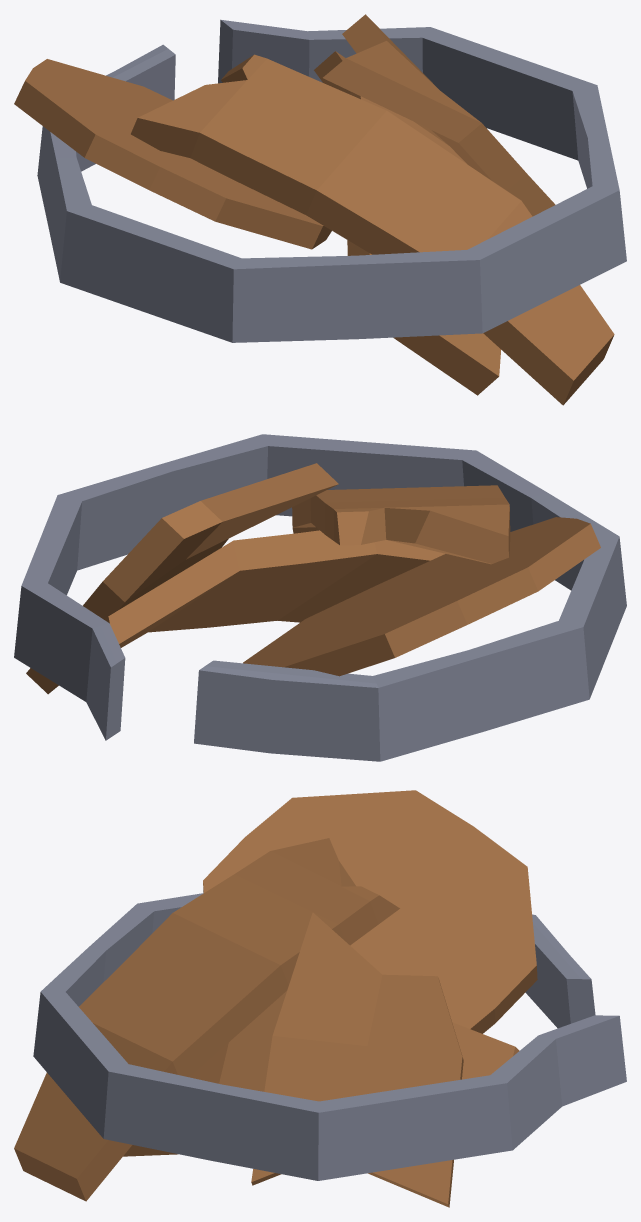
Rendered from BarrelBroken.fbx.
3 views of the same model, one above another, from view 1: azimuth 30°, elevation 25°; view 2: azimuth 150°, elevation 25°; view 3: azimuth 270°, elevation 25° (orthographic). The views are drawn at different scales.
Visible parts, largest first — view 1: metal.004, Plank1.009, TopBottom.005, Plank2.008, Plank1.008; view 2: metal.004, TopBottom.005, Plank1.008, Plank1.009, Plank2.008; view 3: metal.004, Plank1.009, TopBottom.005, Plank2.008, Plank1.008.
Boxes of the visible parts, x1,y1,x2,y2 form: metal.004: (37,19,626,342); Plank1.009: (131,54,614,405); TopBottom.005: (14,59,331,249); Plank2.008: (323,14,555,216); Plank1.008: (314,51,500,395); metal.004: (14,434,626,761); TopBottom.005: (243,517,600,676); Plank1.008: (56,530,445,685); Plank1.009: (292,485,510,564); Plank2.008: (26,463,338,694); metal.004: (33,893,626,1180); Plank1.009: (14,838,399,1201); TopBottom.005: (203,790,537,1033); Plank2.008: (251,912,463,1207); Plank1.008: (123,990,519,1156).
Bounding box in the file's own units: 244 × 111 × 258.
